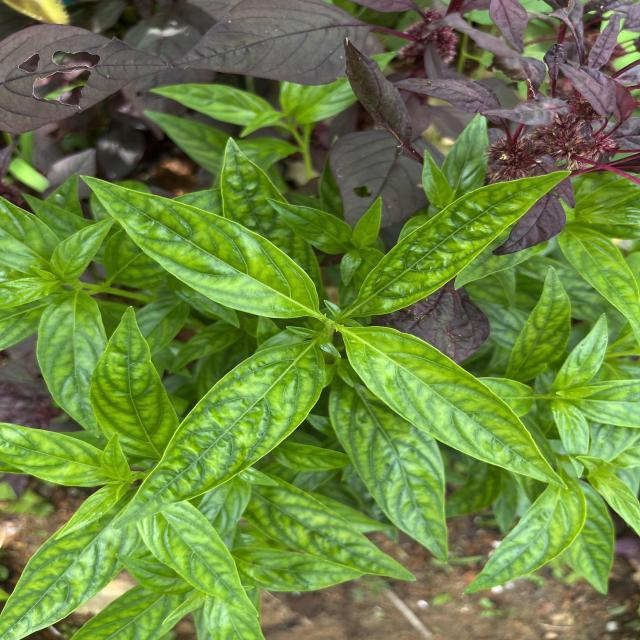Andrographis paniculata: (106, 339, 330, 534), (340, 323, 574, 494), (78, 171, 321, 324), (338, 167, 578, 321), (326, 382, 456, 572), (248, 474, 424, 586), (0, 502, 128, 640), (461, 474, 588, 597), (89, 305, 180, 454), (146, 510, 266, 622), (33, 292, 115, 439), (506, 264, 574, 384), (261, 193, 353, 256)
